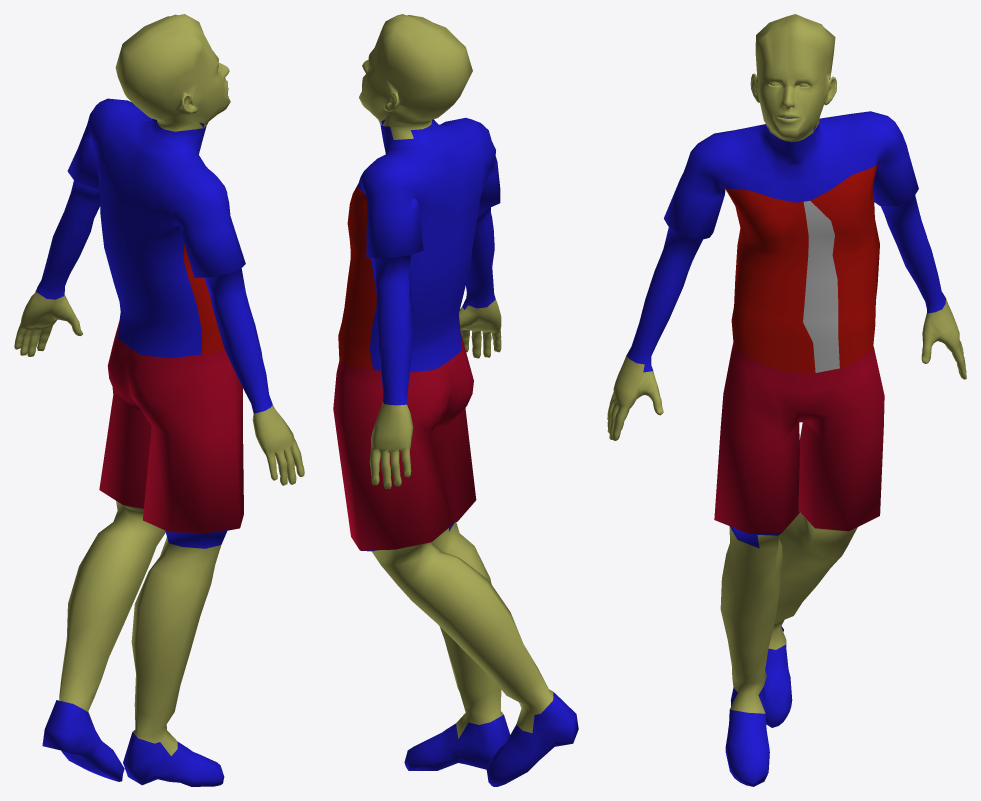
File: player_000021.obj
3 renders of one model, left to right at view 1: azimuth 30°, elevation 25°; view 2: azimuth 150°, elevation 25°; view 3: azimuth 270°, elevation 25°, orthographic. The views are drawn at different scales.
Visible parts, largest first — view 1: soccerplayer_mesh; view 2: soccerplayer_mesh; view 3: soccerplayer_mesh.
Boxes of the visible parts, x1,y1,x2,y2 form: soccerplayer_mesh: [14, 14, 304, 786]; soccerplayer_mesh: [333, 14, 578, 786]; soccerplayer_mesh: [607, 14, 966, 786].
Size of the model in its own units: 1.49 by 5.48 by 2.36.
